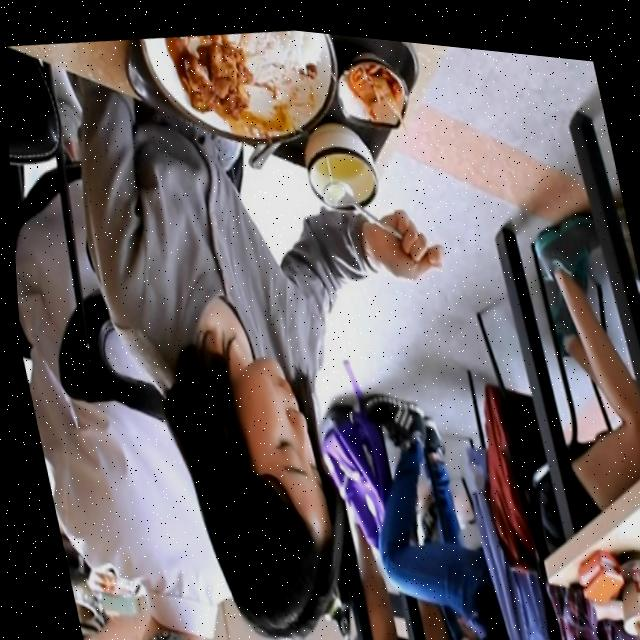eating-person: (40, 3, 537, 640)
